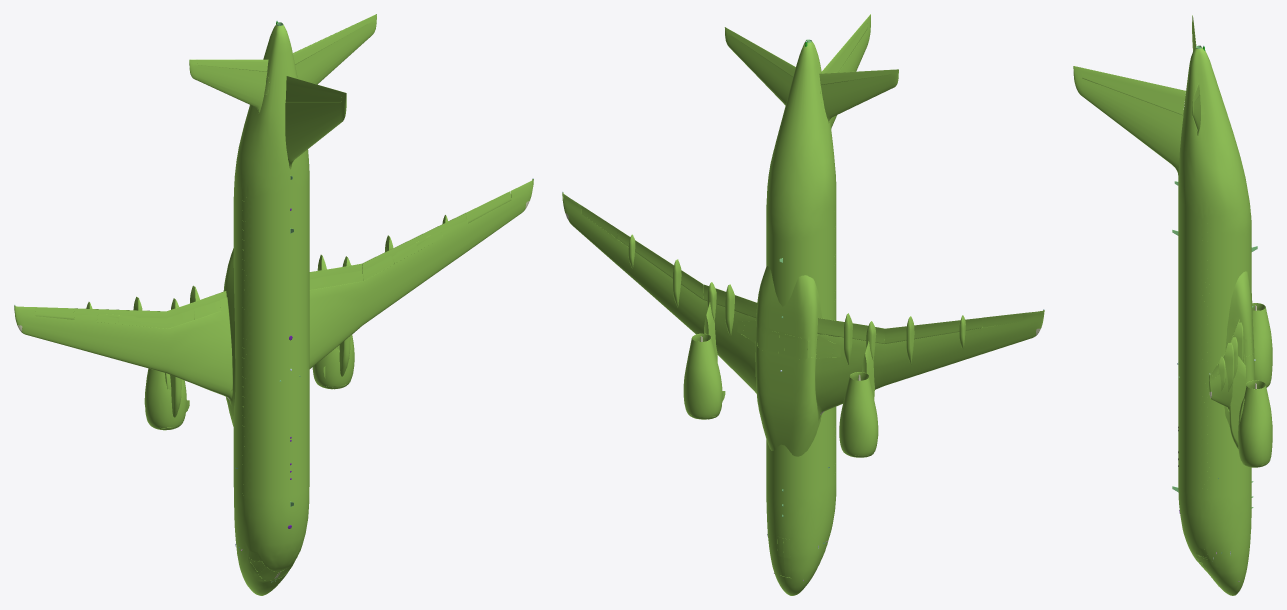
File: SSJ100.gltf
The picture shows the model from 3 angles, left to right: view 1: azimuth 30°, elevation 25°; view 2: azimuth 150°, elevation 25°; view 3: azimuth 270°, elevation 25°; orthographic projection. The views are drawn at different scales.
Visible parts, largest first — view 1: Fuselage; view 2: Fuselage, Wing_Pylons; view 3: Fuselage, Wing_Pylons.
Part boxes in pixels (left/top/right/bottom): Fuselage: left=14, top=14, right=533, bottom=595; Fuselage: left=562, top=14, right=1044, bottom=595; Wing_Pylons: left=628, top=234, right=965, bottom=364; Fuselage: left=1073, top=15, right=1272, bottom=595; Wing_Pylons: left=1219, top=322, right=1243, bottom=391.
Size of the model in its own units: 2780 by 2998 by 983.
